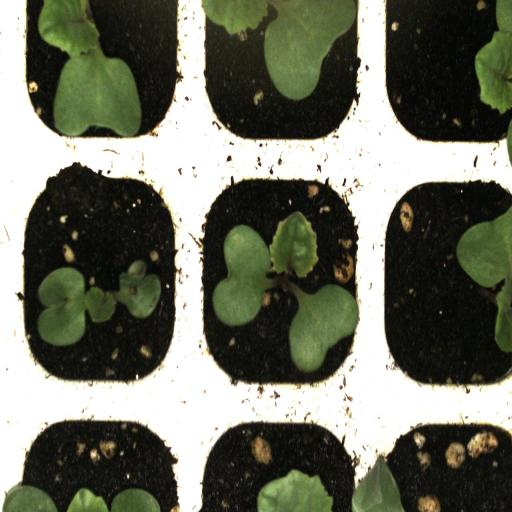Folha: (37, 260, 161, 347), (456, 207, 512, 353), (288, 284, 359, 374), (257, 469, 334, 512), (351, 461, 405, 512), (67, 487, 161, 512)
Germinacao: (16, 162, 194, 391), (196, 161, 367, 395), (13, 0, 192, 159)
